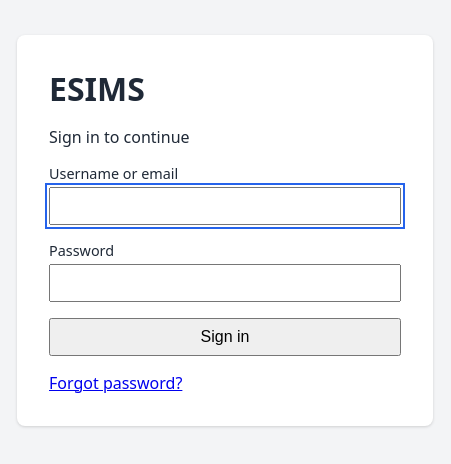
invalid credentials show the generic error
Type "cashier_ravi" into the field labelled "Username or email" at (225, 206), box [49, 186, 401, 224]
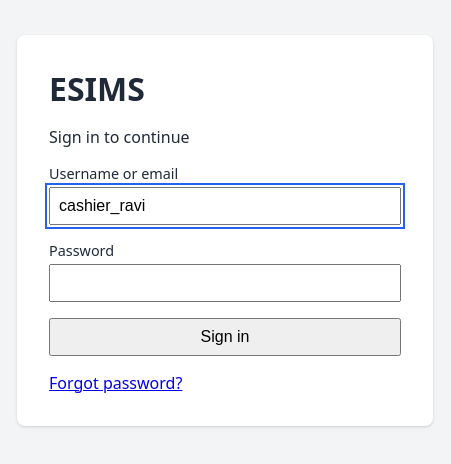
Type "wrong" into the password field labelled "Password" at (225, 282), box [49, 264, 401, 302]
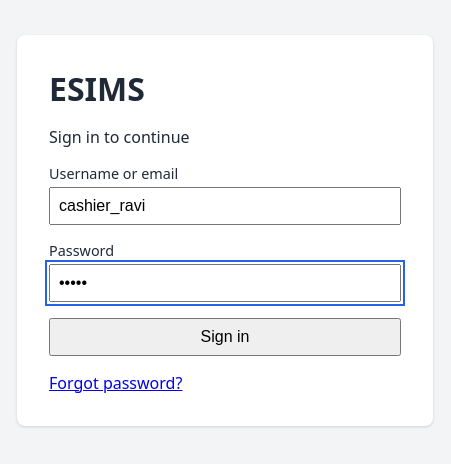
Click the button "Sign in" at (225, 336), box [49, 318, 401, 356]
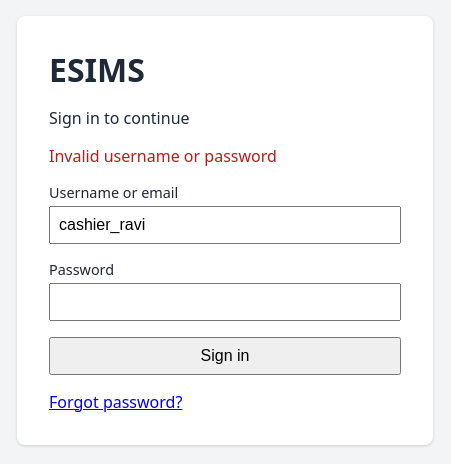
Result: the message reads "Invalid username or password" at [49, 144, 277, 166]
Result: the password field labelled "Password" is empty at [49, 282, 401, 320]
